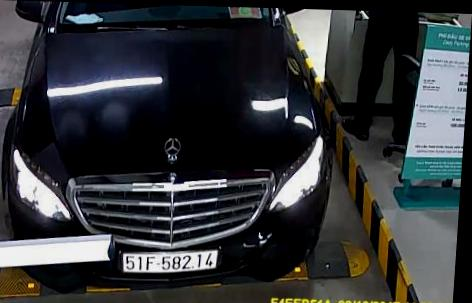License_Plate: (119, 243, 222, 277)
